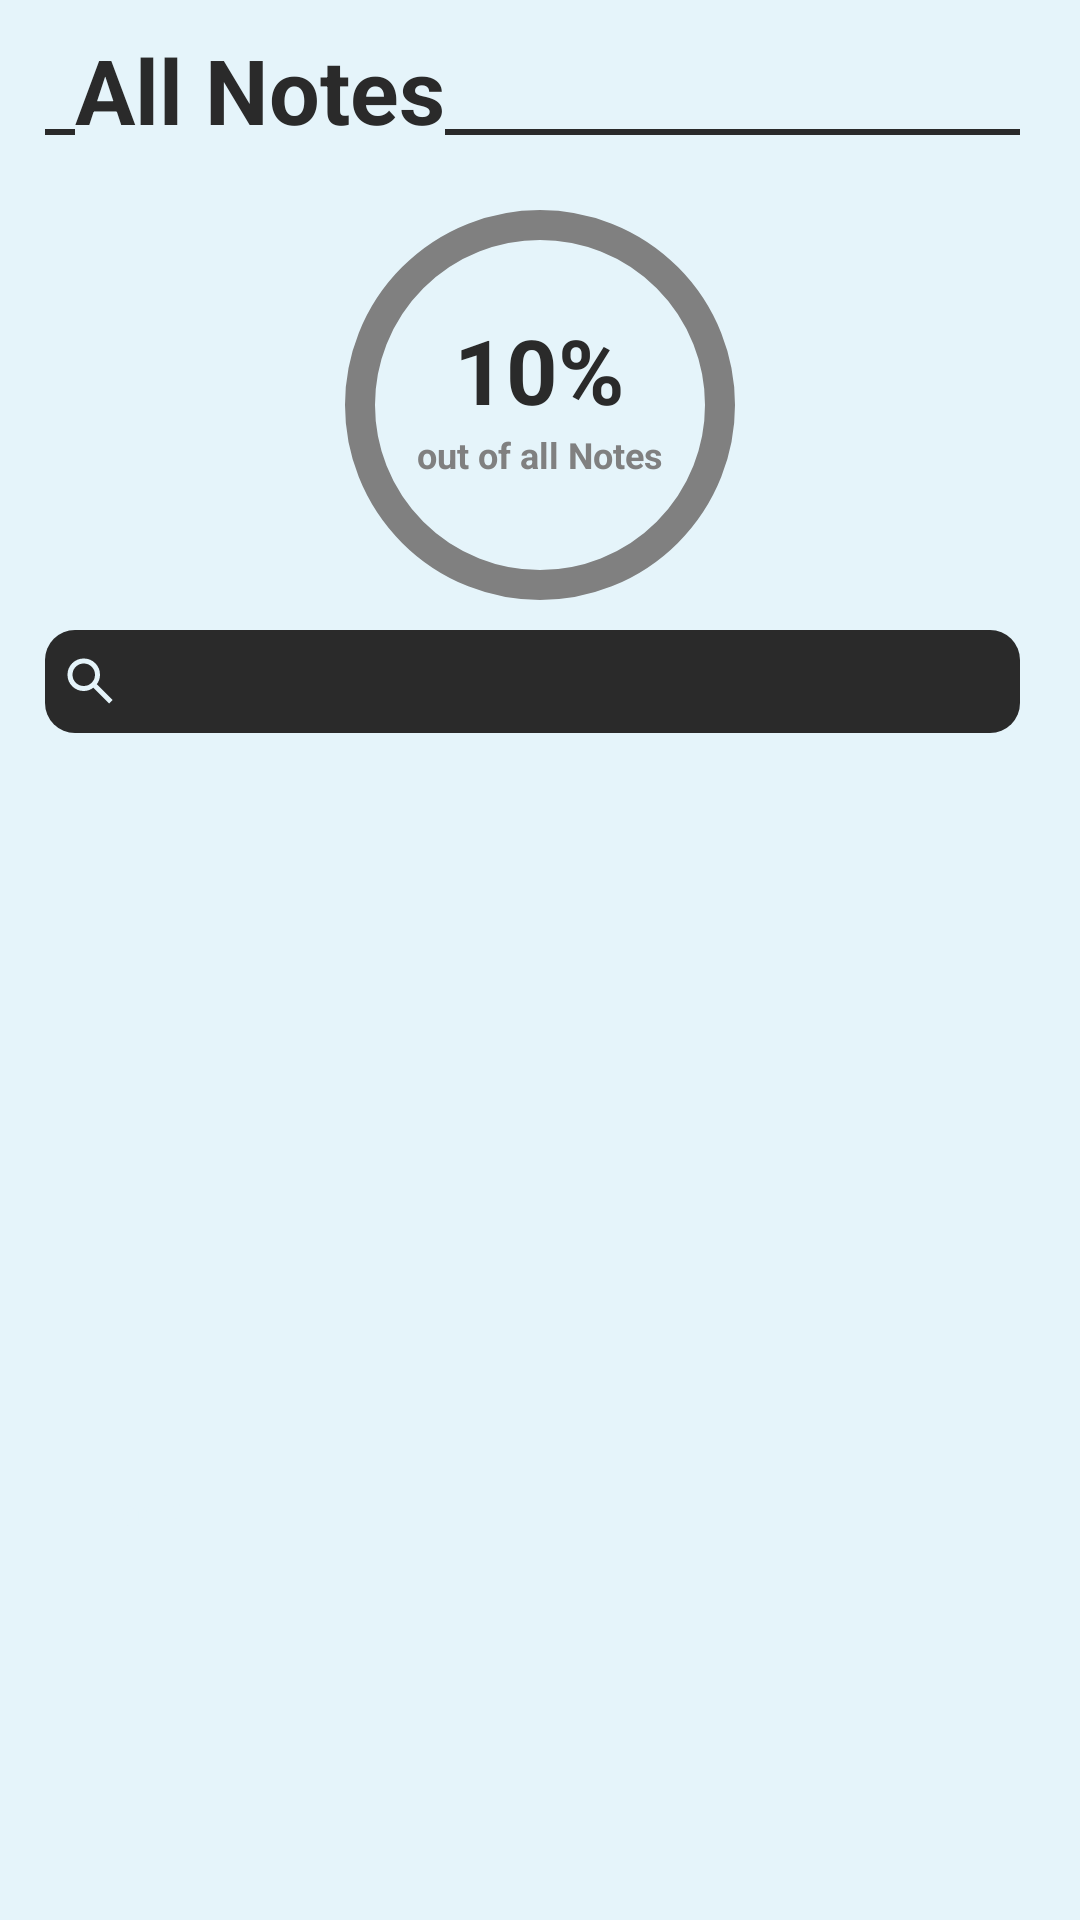

Icon click points for this 1080w x 1920h phone screenshot, format (x=x, y=y):
search: (x=90, y=681)
